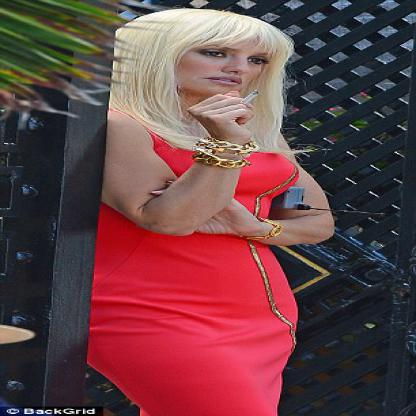smoking: (238, 90, 261, 106)
